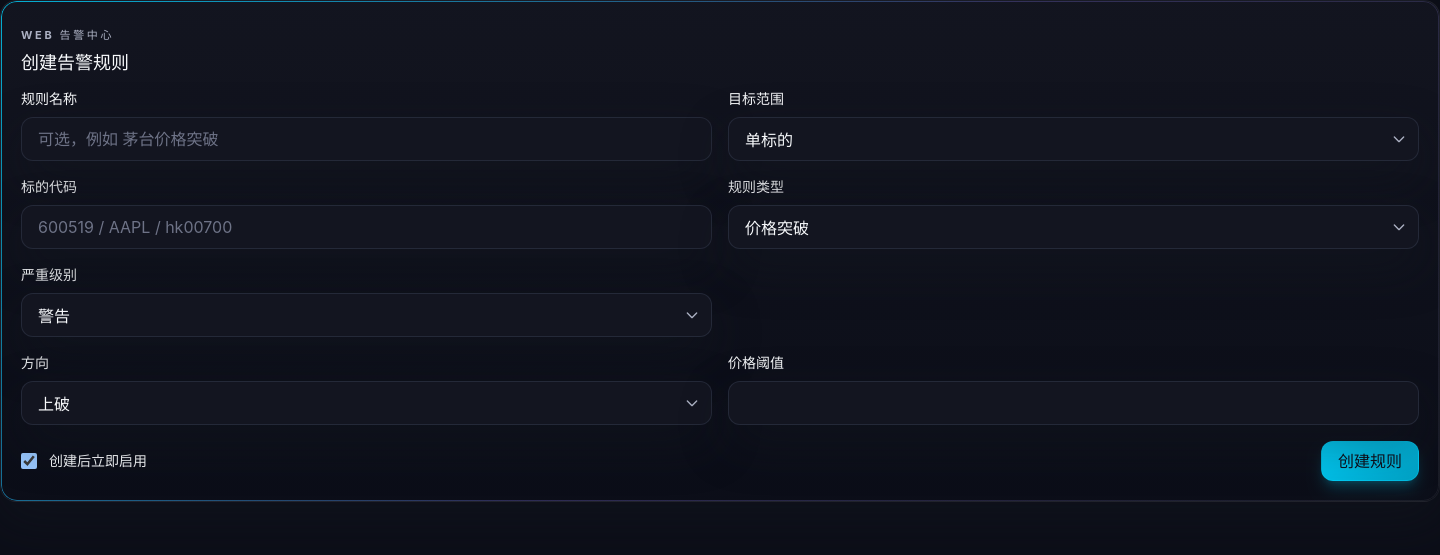
Test: AlertRuleForm › rejects invalid technical indicator boundaries before submit
In the field labelled "标的代码": (366, 227) [21,205,712,249], type "600519"
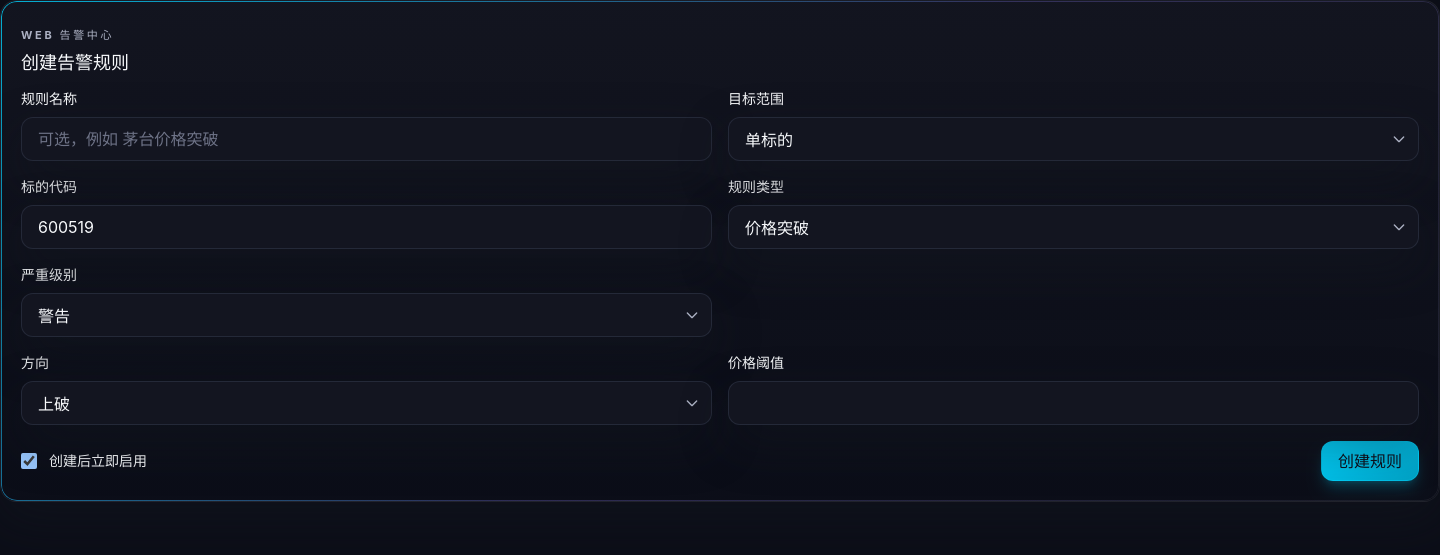
Select "RSI 阈值" in the dropdown labelled "规则类型": (1074, 227) [728,205,1419,249]
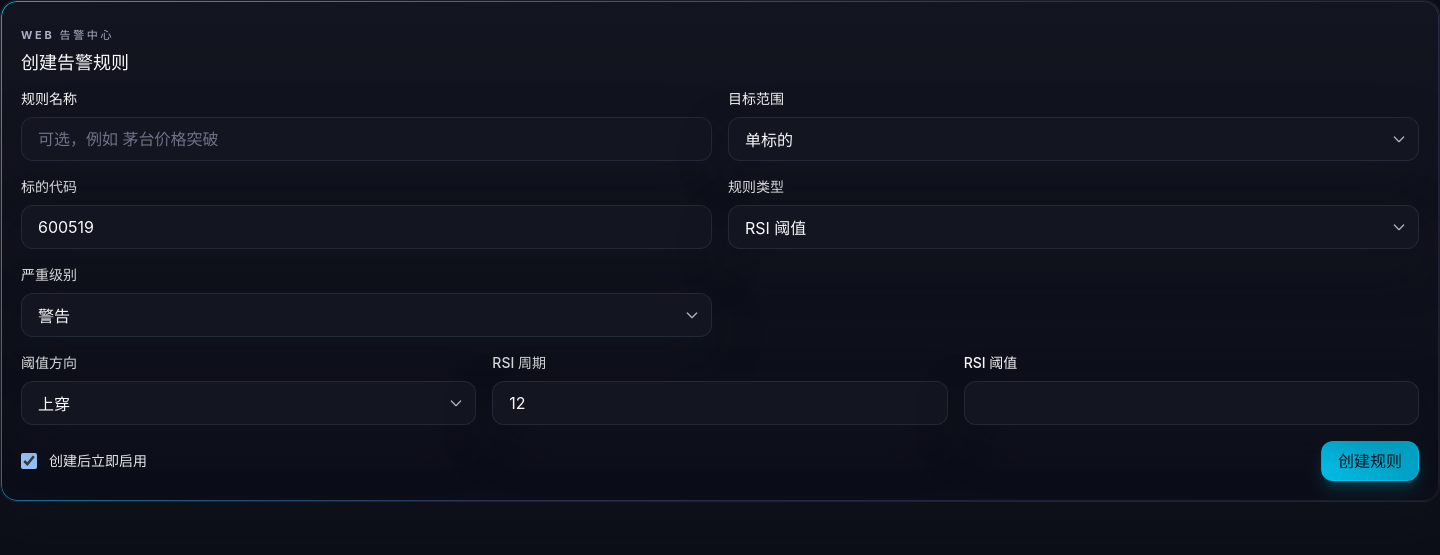
In the number field labelled "RSI 阈值": (1191, 403) [964,381,1419,425], type "200"
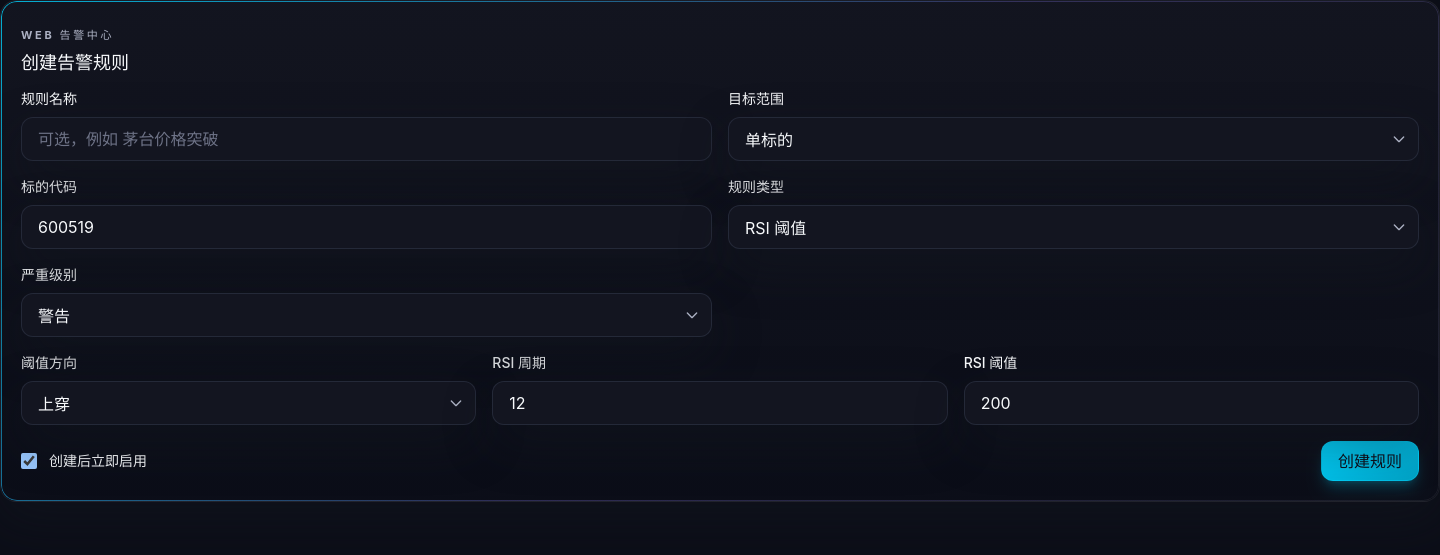
Click the button "创建规则": click(1370, 461) [1321,441,1419,481]
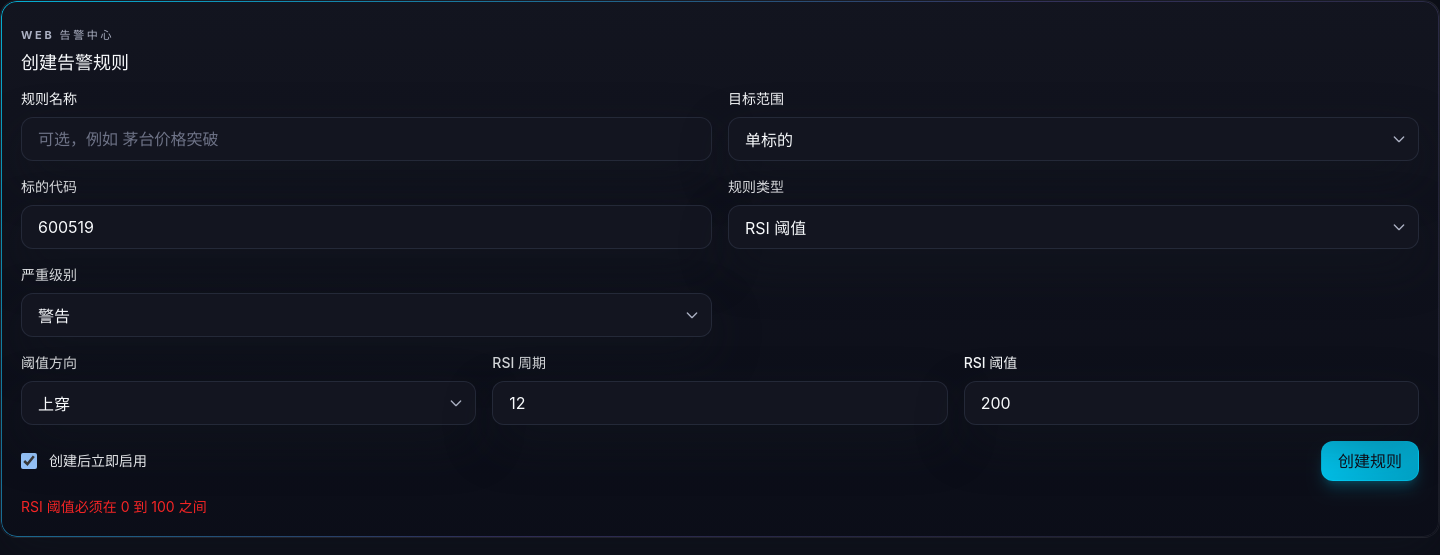
Expected: the message reads "RSI 阈值必须在 0 到 100 之间", [21,498,207,515]
